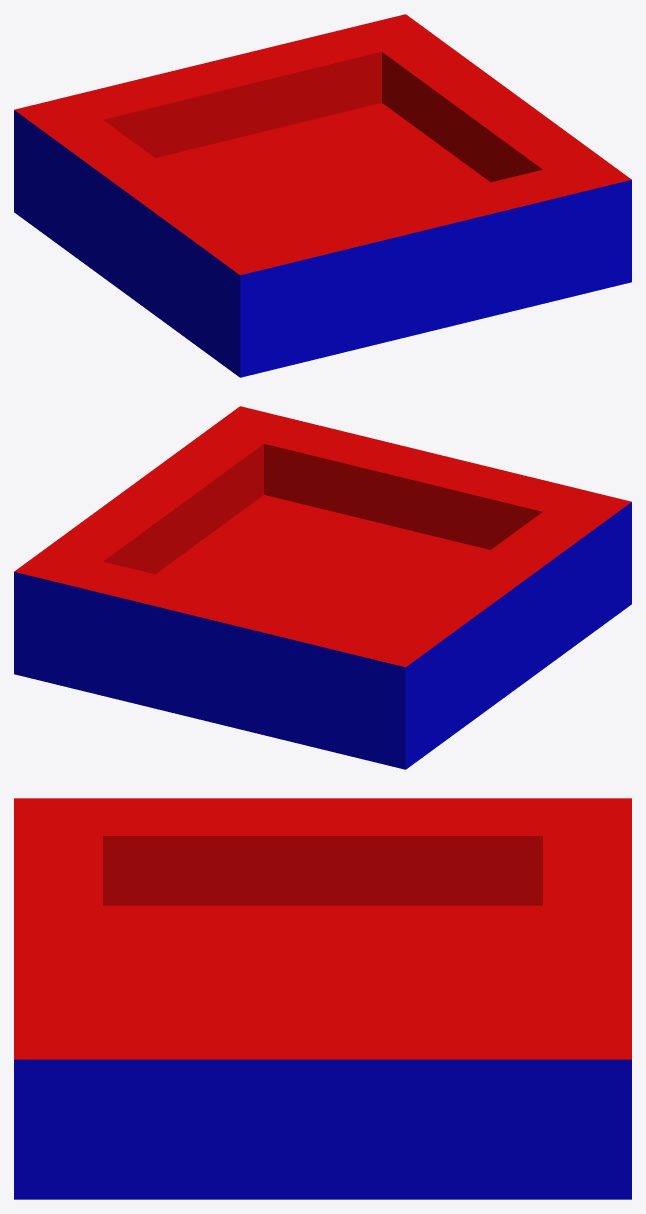
Rendered from inset_box.glb.
The picture shows the model from 3 angles, top to bottom: view 1: azimuth 30°, elevation 25°; view 2: azimuth 150°, elevation 25°; view 3: azimuth 270°, elevation 25°; orthographic projection. The views are drawn at different scales.
Parts seen in each view (by area): view 1: Cube; view 2: Cube; view 3: Cube.
Boxes of the visible parts, x1,y1,x2,y2 form: Cube: [14, 14, 631, 377]; Cube: [14, 406, 631, 769]; Cube: [14, 798, 631, 1199].
Size of the model in its own units: 8 by 2 by 8.
